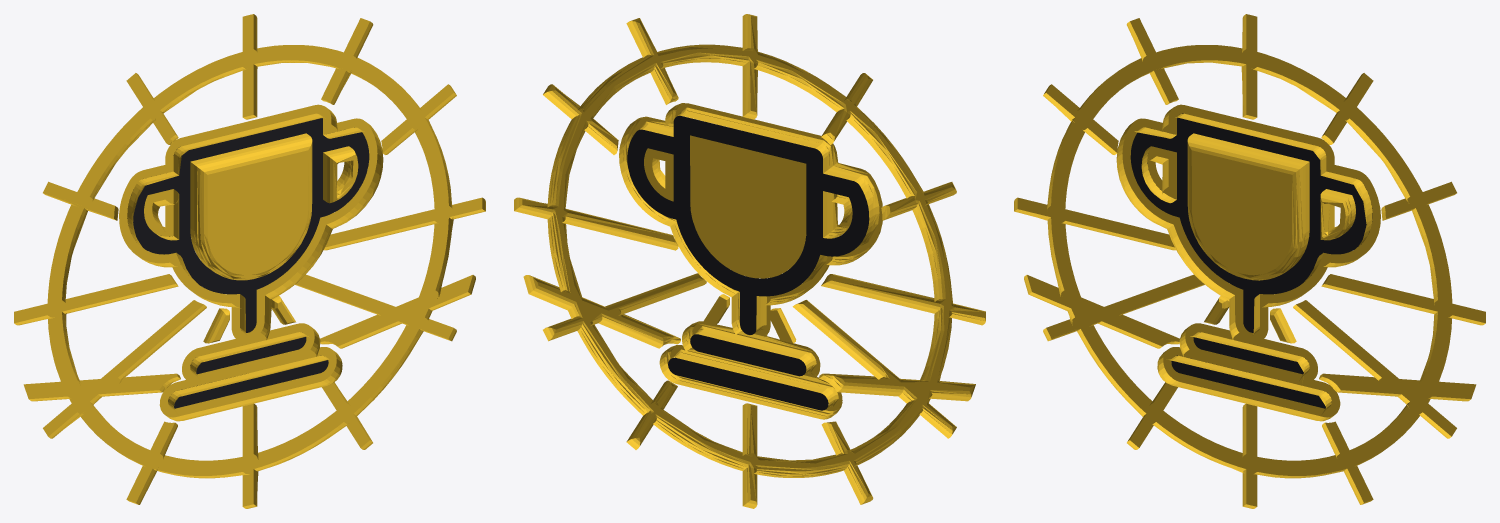
Rendered from records_t3.glb.
The picture shows the model from 3 angles, left to right: view 1: azimuth 30°, elevation 25°; view 2: azimuth 150°, elevation 25°; view 3: azimuth 330°, elevation 25°; orthographic projection.
Visible parts, largest first — view 1: lines, mark, mark_channel; view 2: lines, mark, mark_channel; view 3: lines, mark, mark_channel.
Boxes of the visible parts, <box> form: lines: <box>14,14,485,508</box>; mark: <box>119,104,383,421</box>; mark_channel: <box>127,118,369,408</box>; lines: <box>514,14,985,508</box>; mark: <box>619,103,882,419</box>; mark_channel: <box>627,115,869,410</box>; lines: <box>1014,14,1485,508</box>; mark: <box>1116,104,1380,421</box>; mark_channel: <box>1130,113,1372,408</box>.
Size of the model in its own units: 0.8461 by 0.8462 by 0.03.
